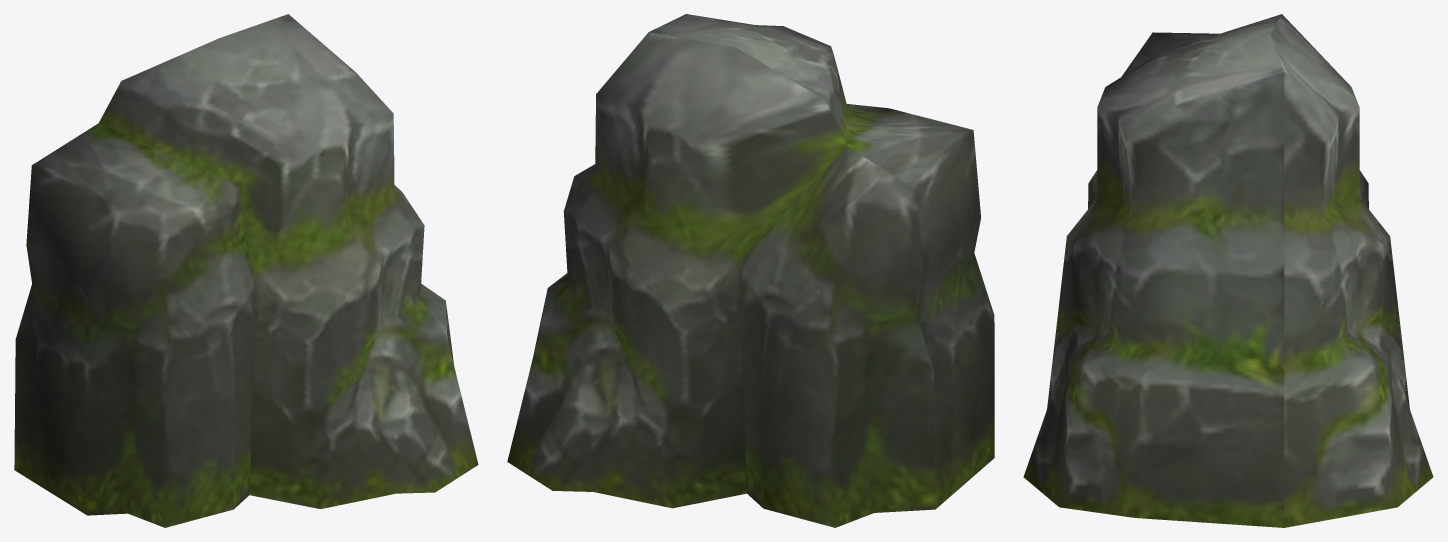
File: shitou06_01.FBX
3 renders of one model, left to right at view 1: azimuth 30°, elevation 25°; view 2: azimuth 150°, elevation 25°; view 3: azimuth 270°, elevation 25°, orthographic. The views are drawn at different scales.
Parts seen in each view (by area): view 1: shitou06_01; view 2: shitou06_01; view 3: shitou06_01.
Boxes of the visible parts, x1=… form: shitou06_01: x1=14, y1=14, x2=478, y2=527; shitou06_01: x1=507, y1=14, x2=994, y2=527; shitou06_01: x1=1023, y1=14, x2=1433, y2=527.
Bounding box in the file's own units: 339 × 319 × 299.
1 material, 1 textured.
